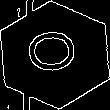O_E: (25, 31, 85, 79)
